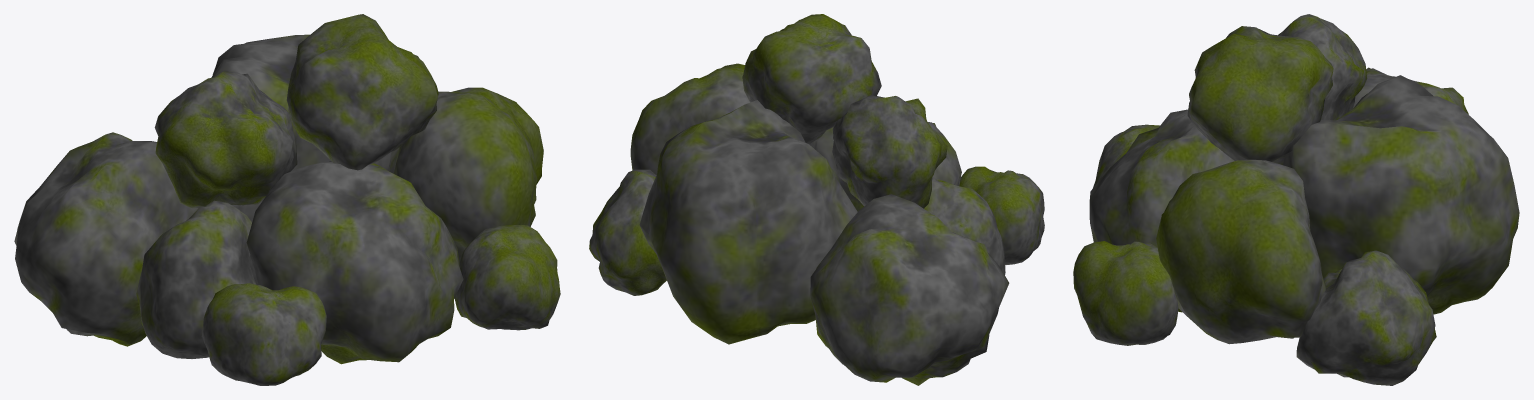
The model's file is A_BoulderOutcropMossyLarge_7.glb.
3 views of the same model, side by side, from view 1: azimuth 30°, elevation 25°; view 2: azimuth 150°, elevation 25°; view 3: azimuth 270°, elevation 25° (orthographic). The views are drawn at different scales.
Parts seen in each view (by area): view 1: BoulderOutcropMossyLarge_7; view 2: BoulderOutcropMossyLarge_7; view 3: BoulderOutcropMossyLarge_7.
Part boxes in pixels (left/top/right/bottom): BoulderOutcropMossyLarge_7: left=14, top=14, right=560, bottom=385; BoulderOutcropMossyLarge_7: left=589, top=14, right=1044, bottom=385; BoulderOutcropMossyLarge_7: left=1073, top=14, right=1519, bottom=385.
Size of the model in its own units: 7.26 by 4.7 by 6.27.
1 material, 1 textured.
